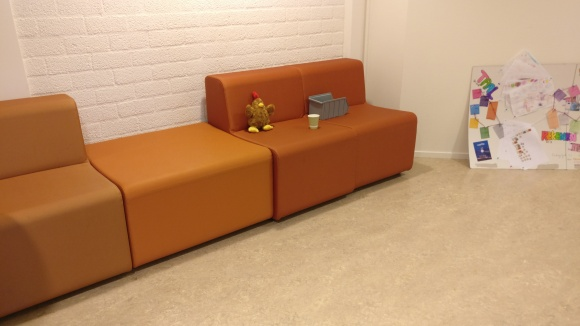chicken: (243, 89, 276, 134)
cup: (306, 112, 319, 131)
tray: (307, 91, 349, 120)
